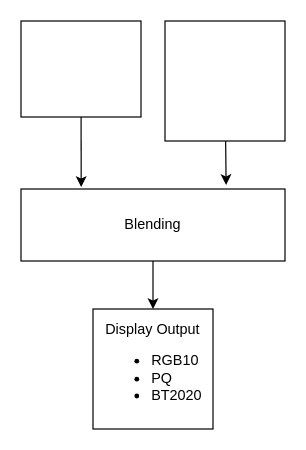
Some shapes in this 306 by 450 pixel diagram are drawn without their labels. The shapes that lost their labels are listed below. From the top down, each one's centre as x and y in pixels, then its label:
the point at 80,68: Framebuffer RGB8 sRGB
the point at 224,80: Framebuffer P010 PQ BT2020
